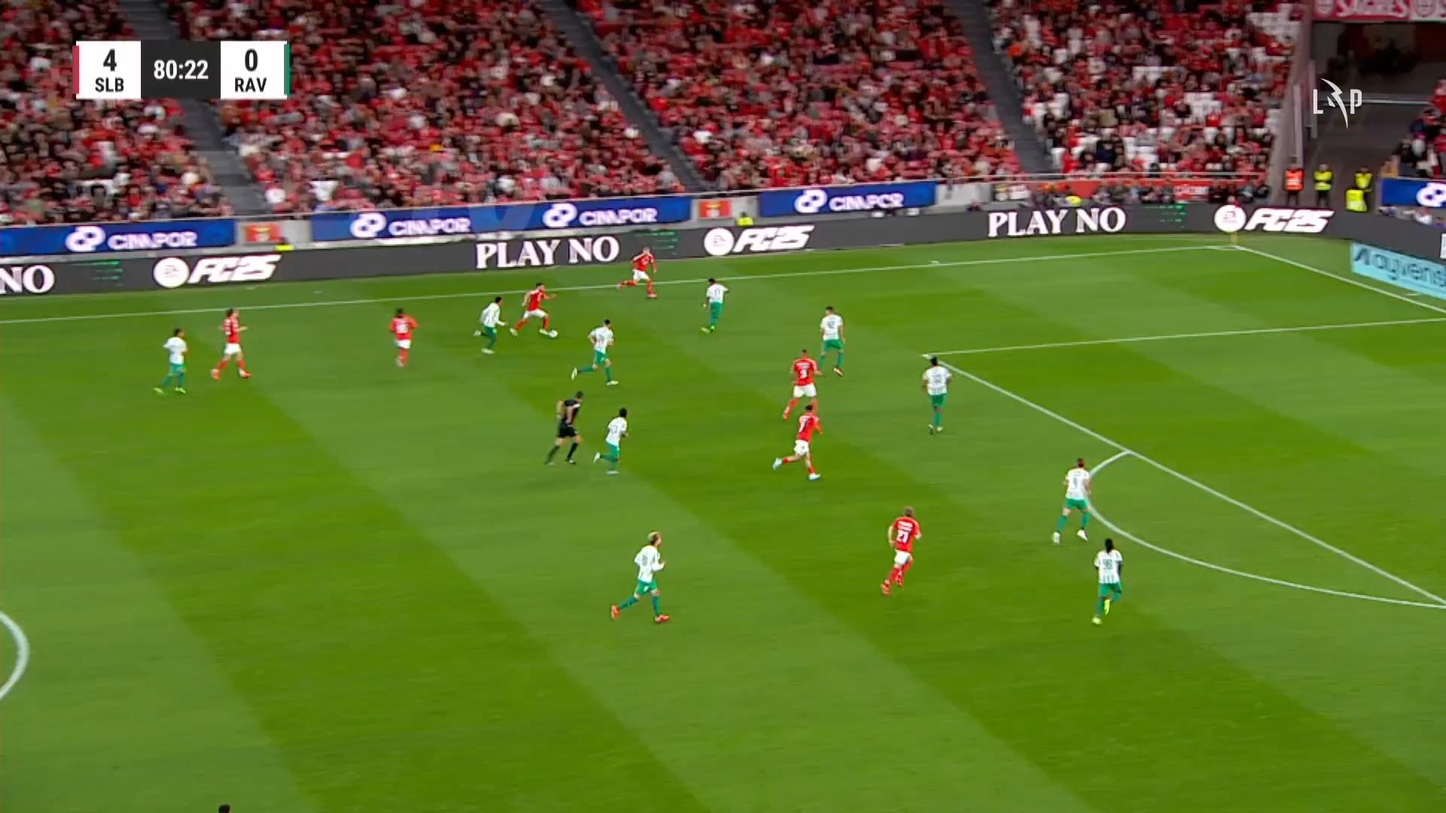player: (609, 530, 671, 623), (771, 402, 824, 481), (1051, 456, 1094, 545), (880, 505, 921, 595), (569, 318, 619, 385), (209, 307, 252, 379), (781, 348, 823, 420), (1091, 537, 1123, 625), (508, 282, 558, 338), (591, 406, 630, 474), (920, 355, 952, 434), (152, 327, 188, 395), (814, 305, 846, 376), (616, 245, 658, 299), (471, 294, 505, 355), (388, 307, 418, 367), (699, 276, 728, 334)
referee: (542, 389, 584, 466)
